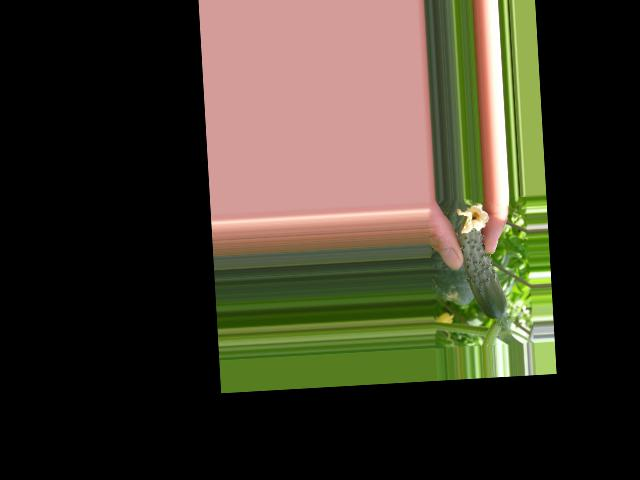cucumber: (456, 203, 507, 321)
